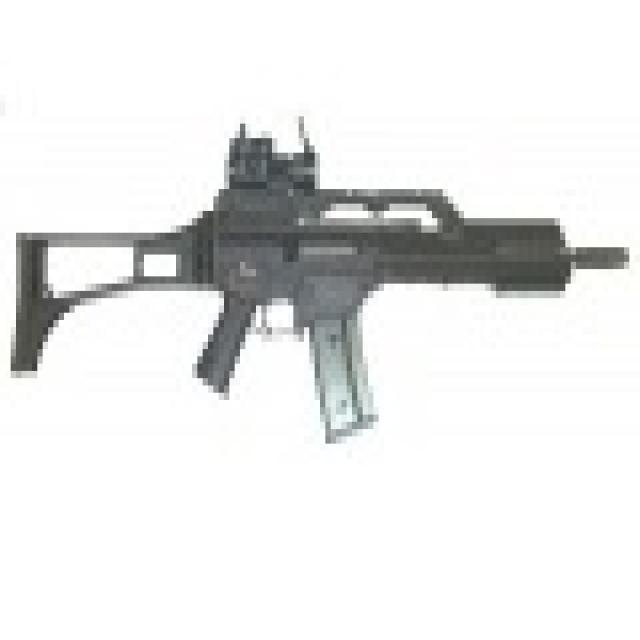Gun: (0, 63, 635, 452)
